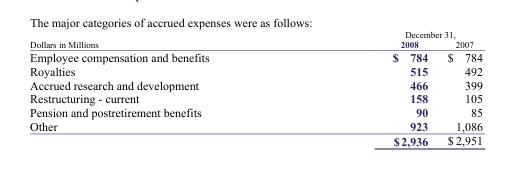table: (29, 28, 482, 147)
table column: (29, 28, 300, 147), (300, 28, 436, 147), (436, 28, 482, 147)
table column header: (29, 28, 482, 49)
table row: (29, 49, 482, 63), (29, 63, 482, 77), (29, 77, 482, 91), (29, 91, 482, 105), (29, 105, 482, 119), (29, 119, 482, 133), (29, 133, 482, 147), (29, 38, 482, 49), (29, 28, 482, 38)
table spanning cell: (29, 28, 300, 49), (300, 28, 482, 38)
